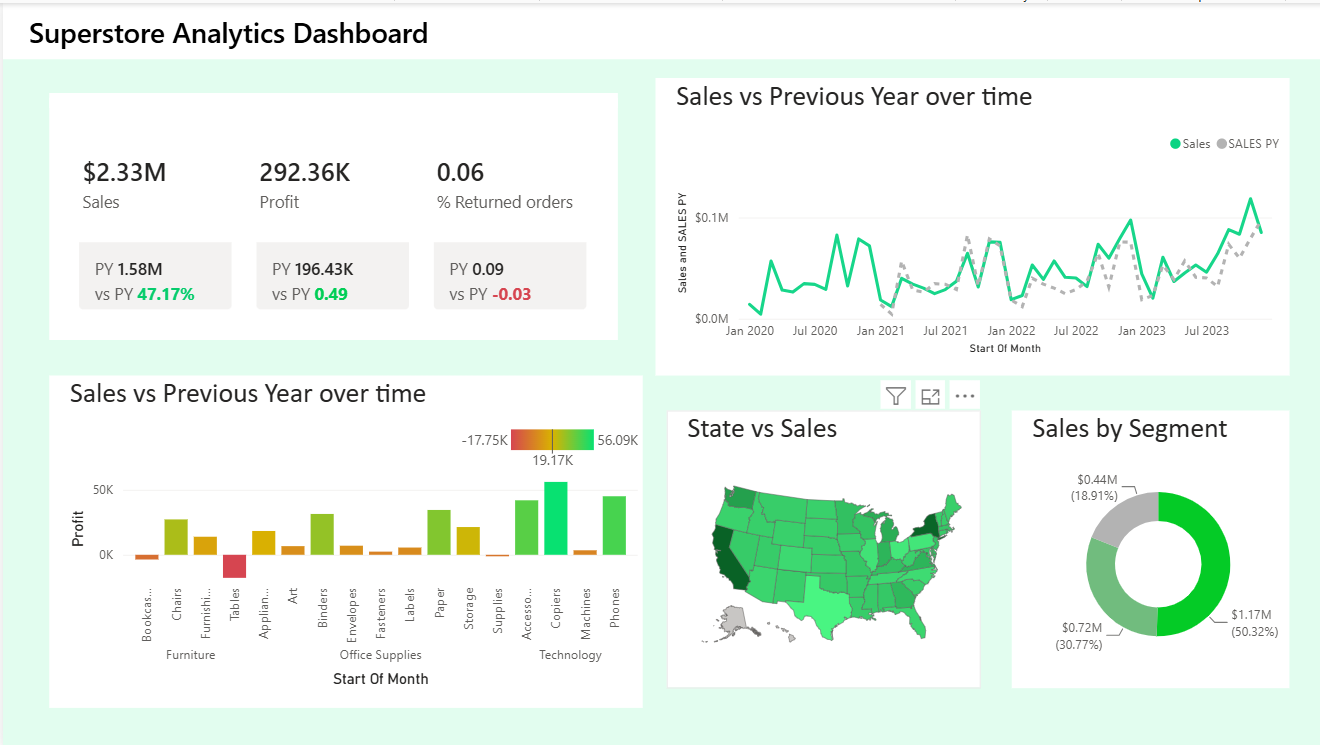

The page's visual inventory and layout, read from the dashboard file:
{"tool":"powerbi","page":{"name":"Page 1","canvas":[1280,720],"ordinal":0},"visuals":[{"type":"cardVisual","fields":{"Data":["Key Measures.Sales","Key Measures.Profit","Key Measures.% Returned orders"]},"box":[44.6,86.9,548.9,238.8],"z":0},{"type":"shape","box":[0,0,1280,54.3],"z":1000},{"type":"lineChart","title":"Sales vs Previous Year over time","fields":{"Y":["Key Measures.Sales","Key Measures.SALES PY"],"Category":["Date Table.Start of Month"]},"box":[629.8,72.4,611.7,287.1],"z":2000},{"type":"columnChart","title":"Sales vs Previous Year over time","fields":{"Category":["Orders.CATEGORY","Orders.SUB CATEGORY"],"Y":["Key Measures.Profit"]},"box":[44.6,359.5,573.1,320.9],"z":3000},{"type":"shapeMap","title":"State vs Sales ","fields":{"Category":["Orders.STATE"],"Value":["Key Measures.Profit"]},"box":[640.6,393.3,303.3,267.6],"z":3001},{"type":"donutChart","title":"Sales by  Segment","fields":{"Y":["Key Measures.Sales"],"Category":["Orders.SEGMENT"]},"box":[973.6,393.3,267.8,267.8],"z":3002}]}

Visuals, with their boxes in screenshot pixels (x1, y1, x2, y2), scaled from the page's 1280x720 canvas onto the 1320x745 screenshot:
cardVisual - Key Measures.Sales x Key Measures.Profit: [x1=46, y1=90, x2=612, y2=337]
shape: [x1=0, y1=0, x2=1319, y2=56]
"Sales vs Previous Year over time" lineChart: [x1=649, y1=75, x2=1280, y2=372]
"Sales vs Previous Year over time" columnChart: [x1=46, y1=372, x2=637, y2=704]
"State vs Sales " shapeMap: [x1=661, y1=407, x2=973, y2=684]
"Sales by  Segment" donutChart: [x1=1004, y1=407, x2=1280, y2=684]
